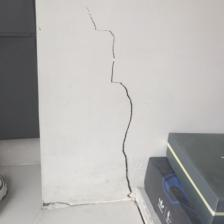High: (81, 1, 147, 224)
